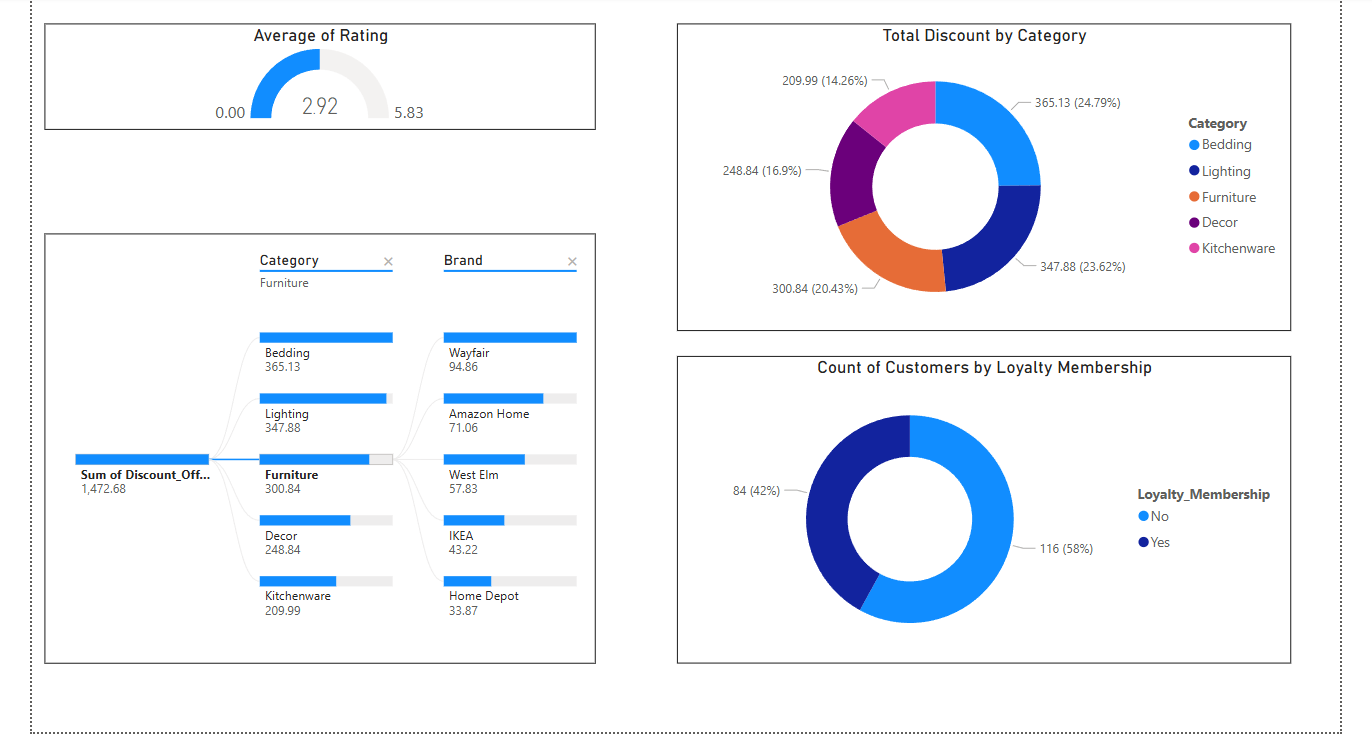

This screenshot's page, from the dashboard's own definition file:
{"tool":"powerbi","page":{"name":"Page 4","canvas":[1280,720],"ordinal":3},"visuals":[{"type":"decompositionTreeVisual","fields":{"Analyze":["Sum(Competitor_Pricing.Discount_Offered)"],"ExplainBy":["Competitor_Pricing.Category","Competitor_Pricing.Brand"]},"box":[12.2,232.3,539.3,420.7],"z":0},{"type":"gauge","fields":{"Y":["Avg(Customer_Reviews.Rating)"]},"box":[12.2,26.9,539.3,103.9],"z":1000},{"type":"donutChart","title":"Count of Customers by Loyalty Membership","fields":{"Y":["CountNonNull(Customer_Data.Customer_ID)"],"Category":["Customer_Data.Loyalty_Membership"]},"box":[631,352.2,600.4,300.8],"z":2000},{"type":"donutChart","title":"Total Discount by Category","fields":{"Category":["Competitor_Pricing.Category"],"Y":["Sum(Competitor_Pricing.Discount_Offered)"]},"box":[631,26.9,600.4,300.8],"z":3000}]}

Visuals, with their boxes in screenshot pixels (x1, y1, x2, y2):
decompositionTreeVisual - Sum(Competitor_Pricing.Discount_Offered) x Competitor_Pricing.Category: locate(48, 232, 594, 658)
gauge - Avg(Customer_Reviews.Rating): locate(48, 24, 594, 129)
"Count of Customers by Loyalty Membership" donutChart: locate(675, 353, 1283, 658)
"Total Discount by Category" donutChart: locate(675, 24, 1283, 328)
